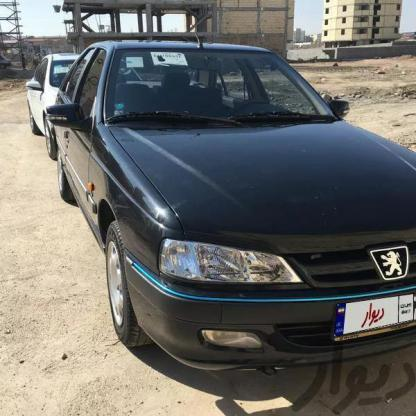Car: (48, 36, 416, 365), (22, 50, 108, 150)
